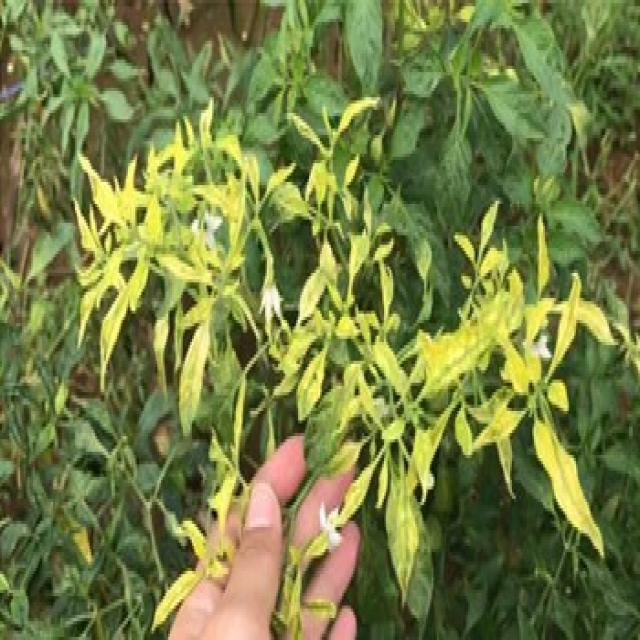virus_kuning: (530, 398, 631, 562), (389, 466, 432, 598), (173, 315, 218, 441), (94, 276, 134, 389), (552, 268, 587, 376)
